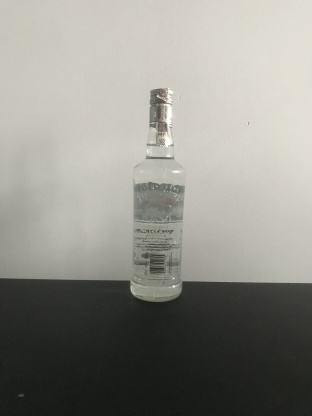nakretka: (147, 85, 175, 128), (147, 85, 174, 128)
